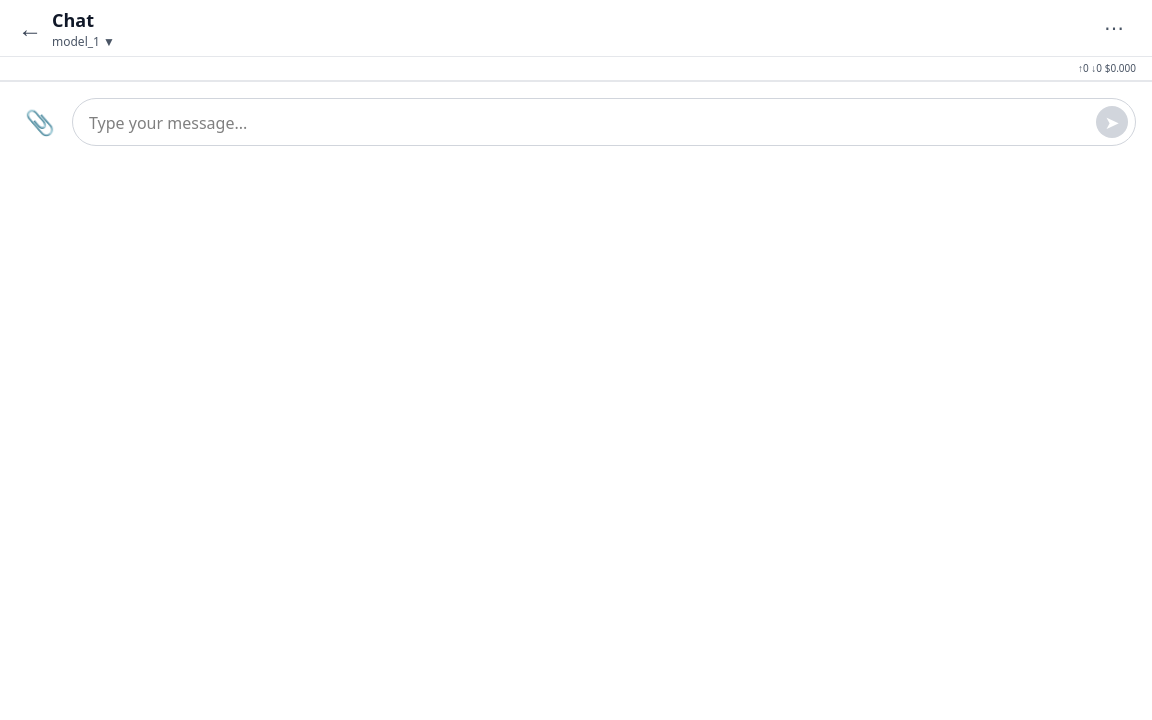
Test case: ChatView with the real message list › the ⋯ menu › attaches a hook picked from /hooks
The width and height of the screenshot is (1152, 720).
Click the button named "Chat menu": click(1114, 28) top-left (1092, 6), bottom-right (1136, 50)
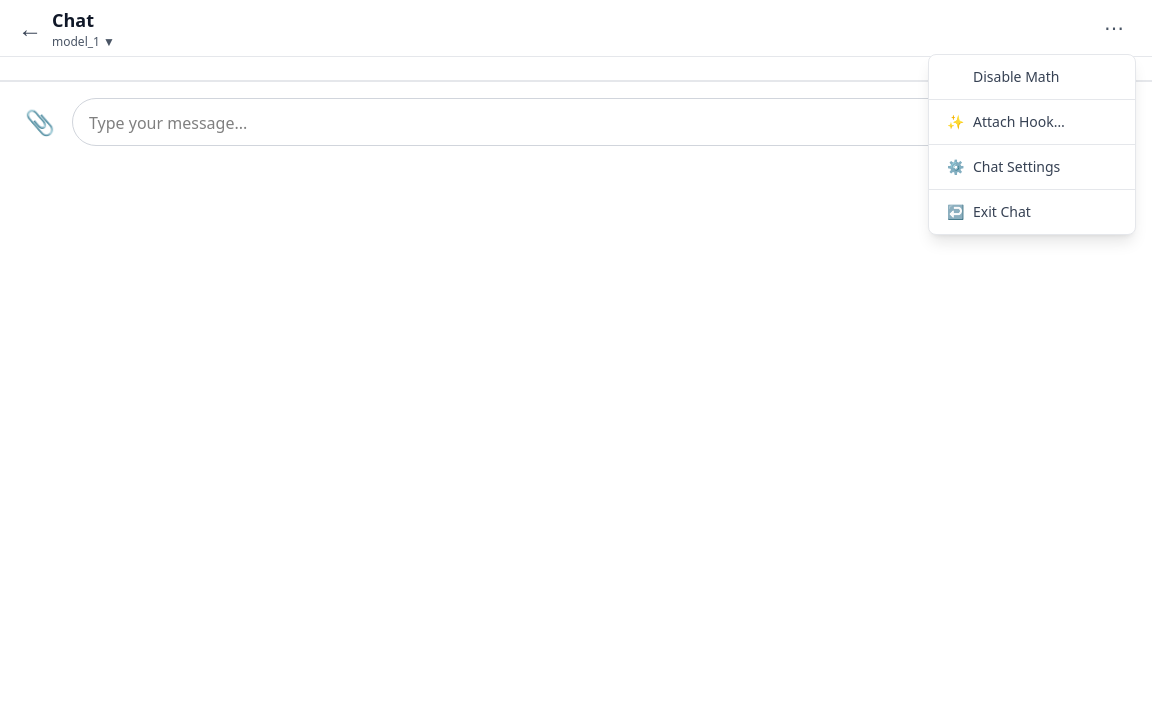
Click the text "Attach Hook…": click(1019, 122) top-left (973, 112), bottom-right (1065, 132)
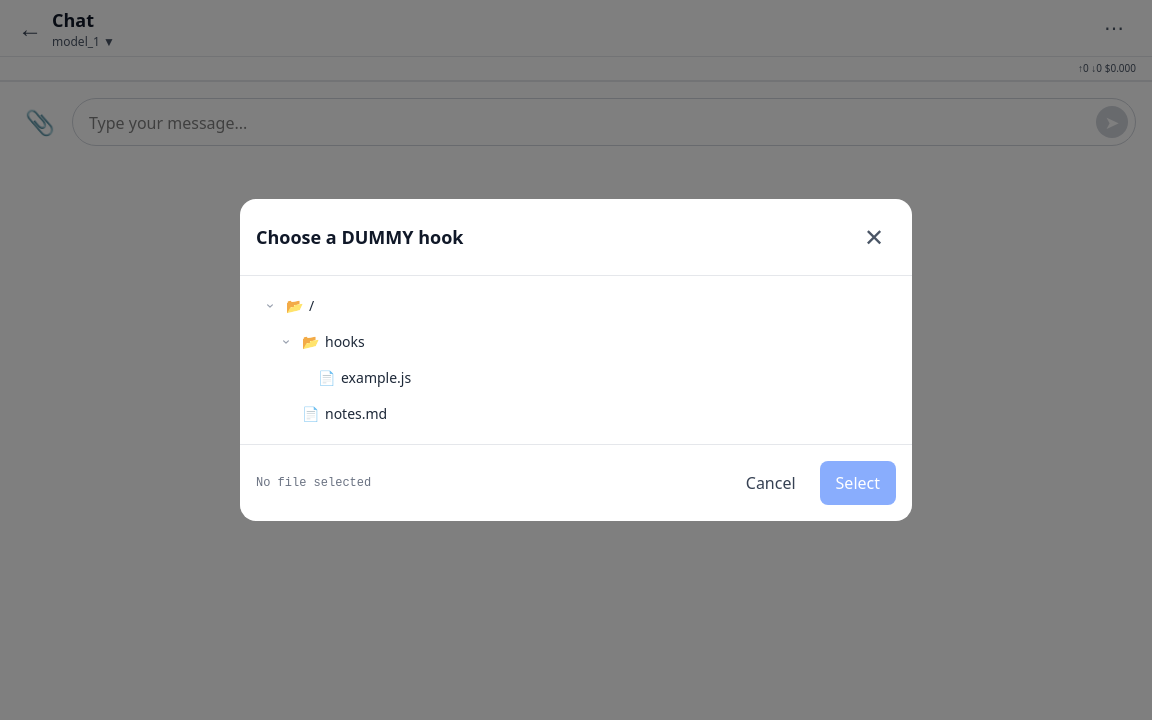
Click the list item "📄 notes.md": click(345, 414) top-left (302, 404), bottom-right (387, 423)
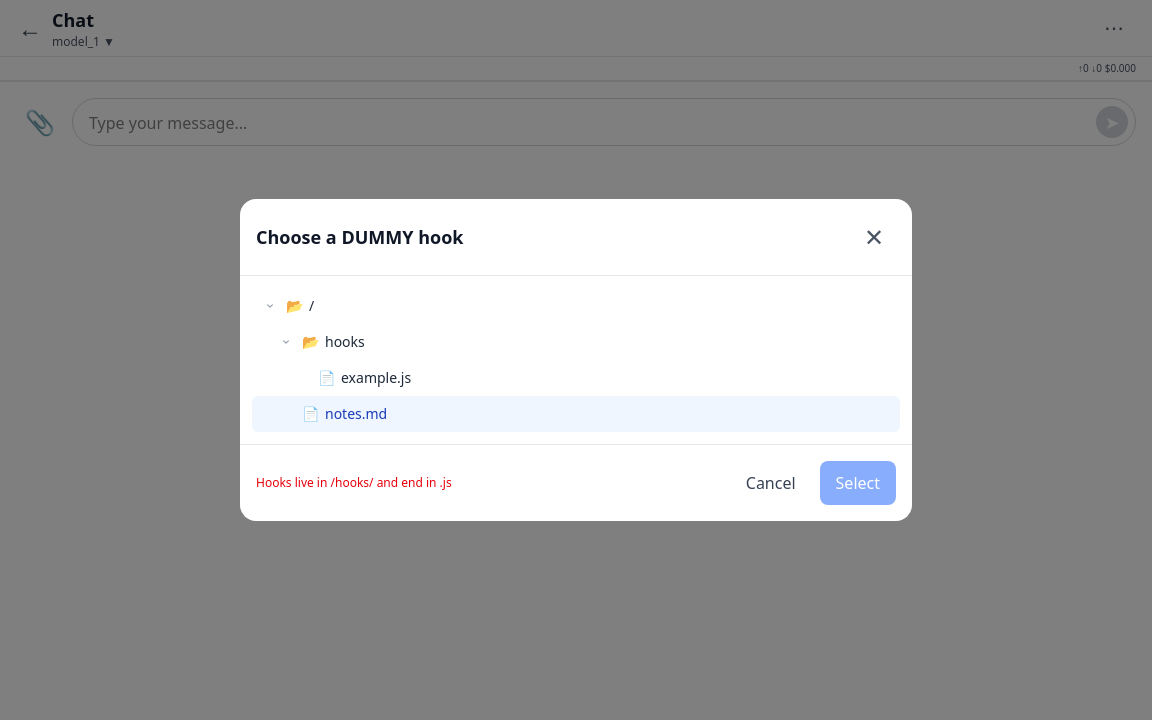
Result: the button "Select" is disabled at top-left (820, 461), bottom-right (896, 505)
Result: the message shows "/hooks/" at top-left (256, 474), bottom-right (452, 491)
Click the list item "📄 example.js": click(365, 378) top-left (318, 368), bottom-right (411, 387)
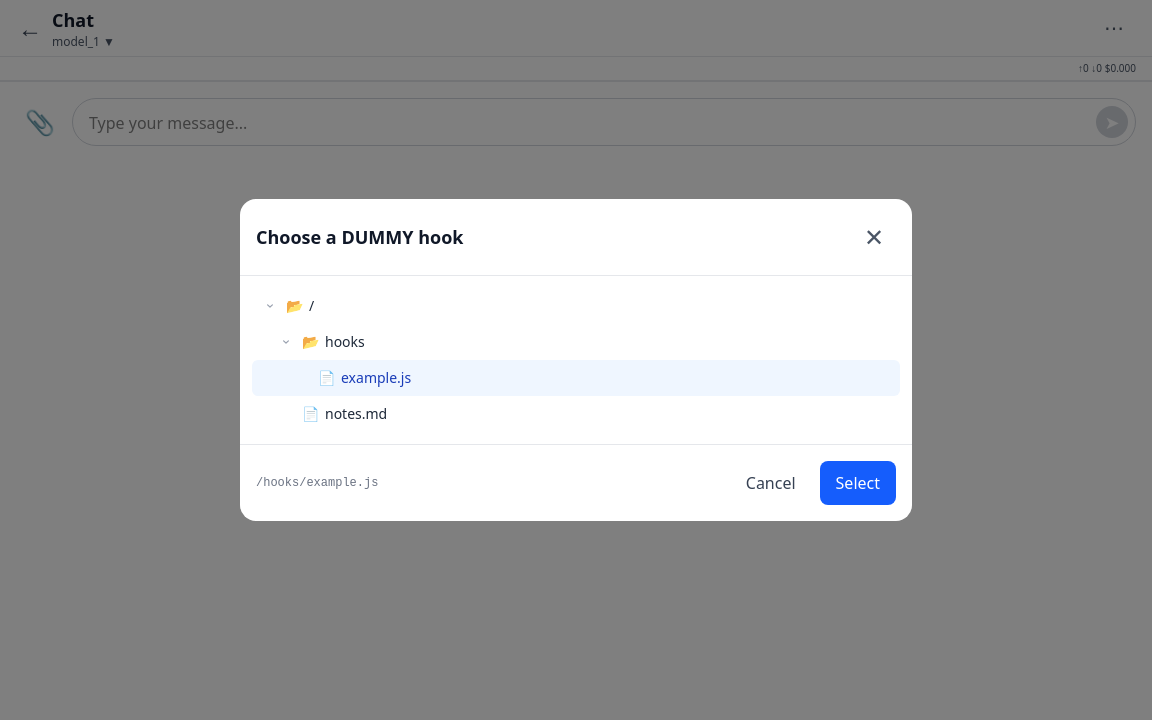
Click the button "Select": click(858, 483) top-left (820, 461), bottom-right (896, 505)
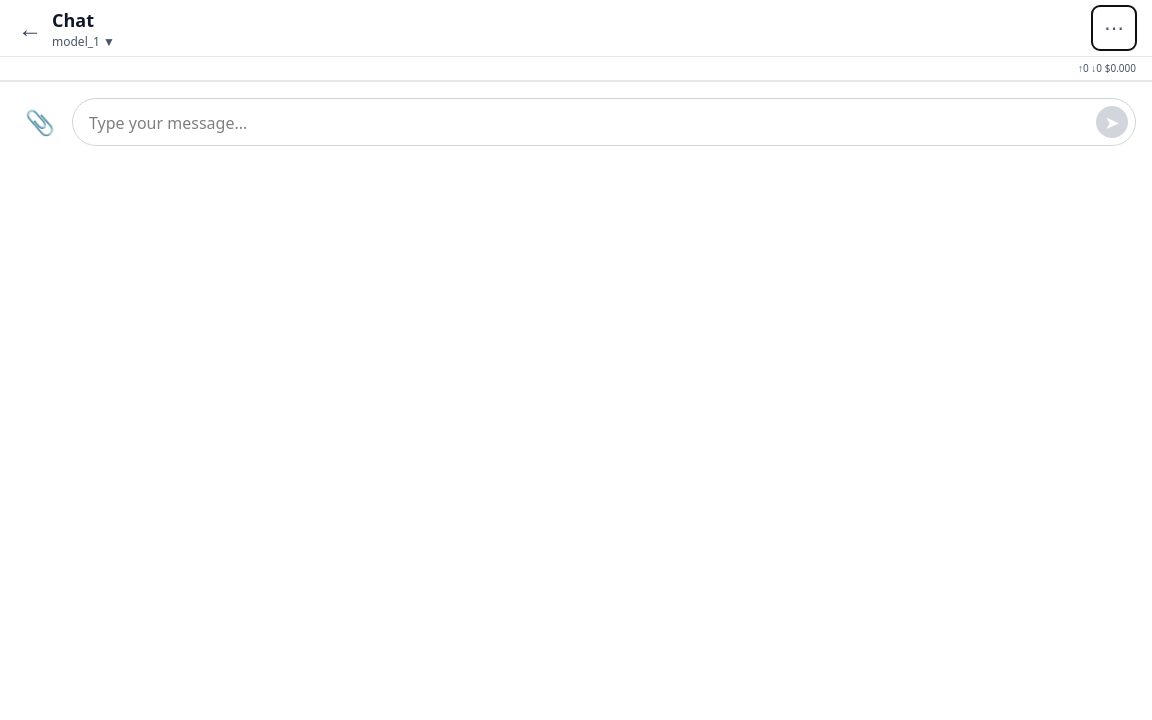
Result: the heading "Choose a DUMMY hook" is gone
